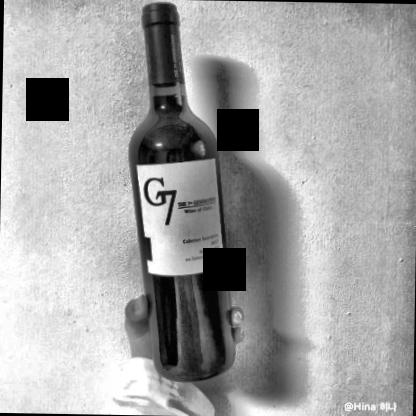G7: (134, 158, 232, 280)
